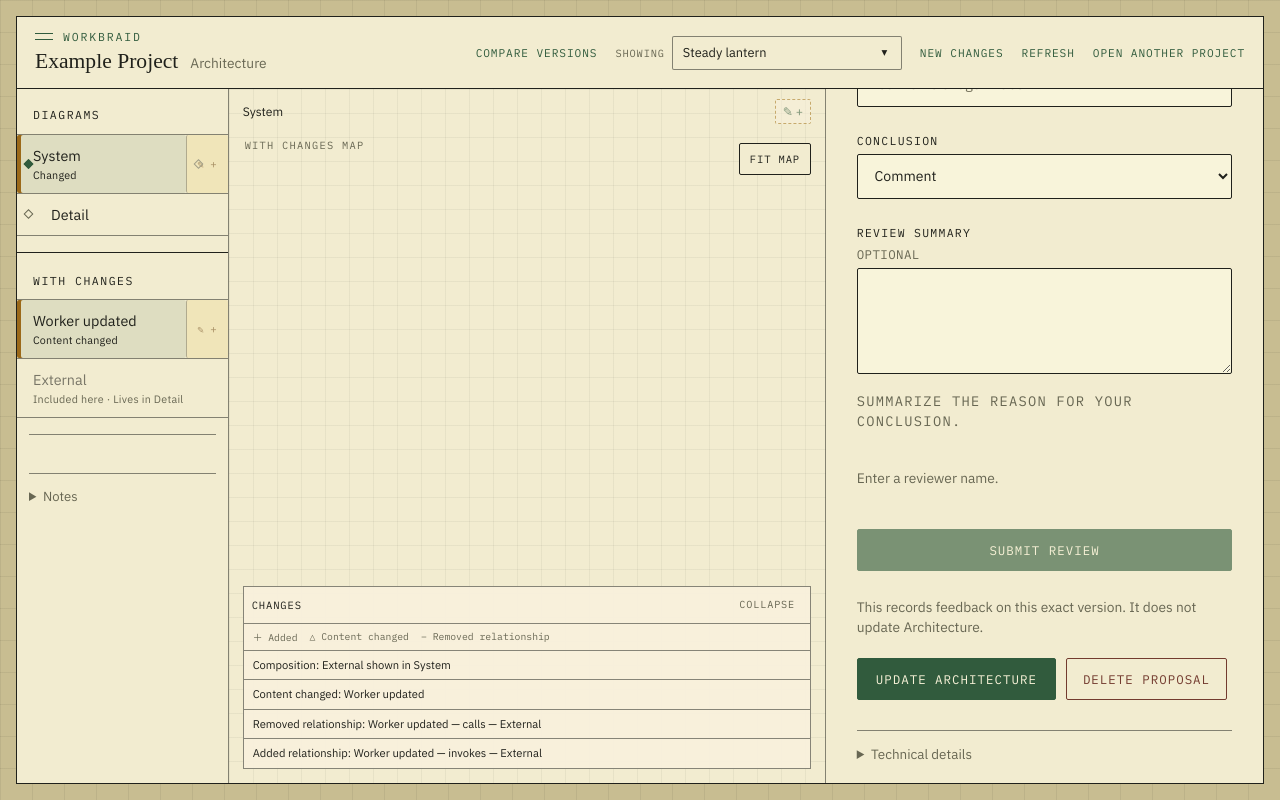
it: candidate review regressions › keeps an unmatched p receipt unconfirmed
(page scrolled)
Click the button "Update architecture" at (956, 679), box [857,658,1056,700]
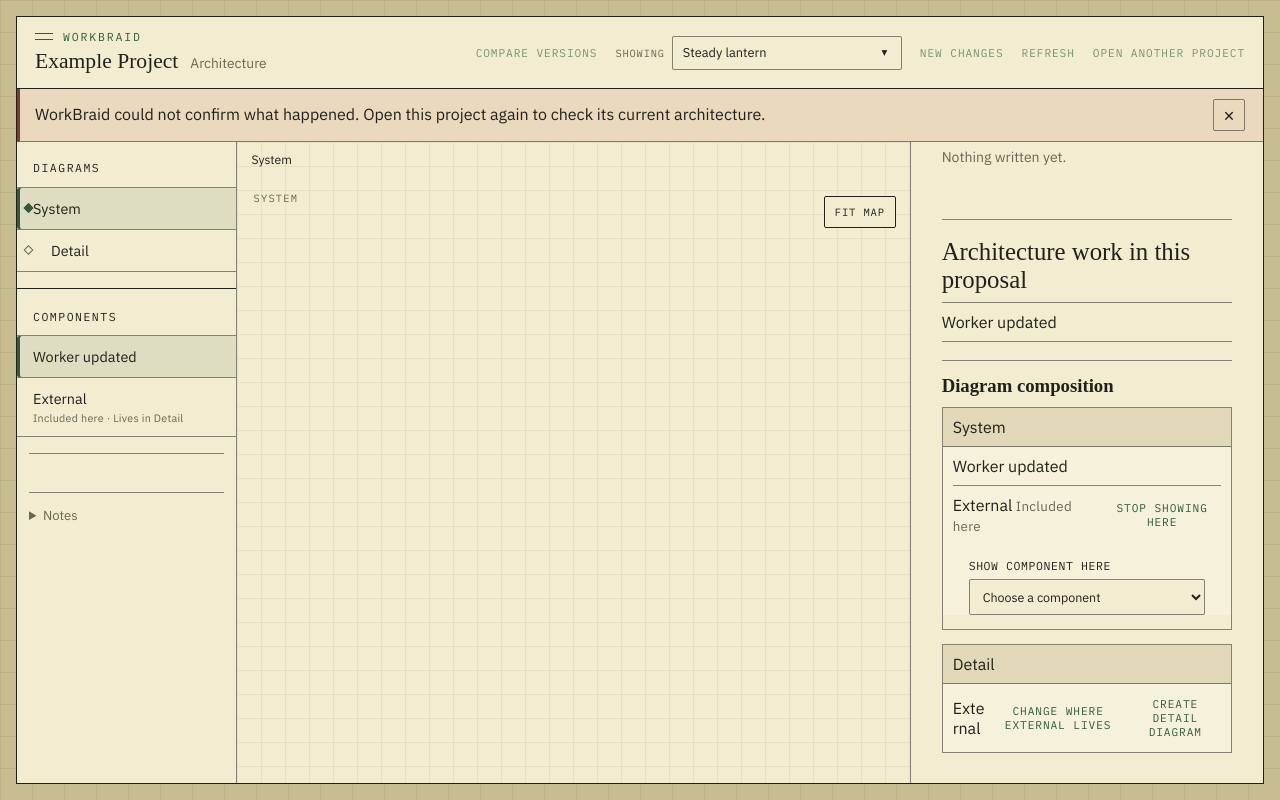
expect the text "WorkBraid could not confirm what happened. Open this project again to check its current architecture." is shown: met, box [35,104,765,124]
expect the button "Refresh" is disabled: met, box [1022,42,1075,64]
